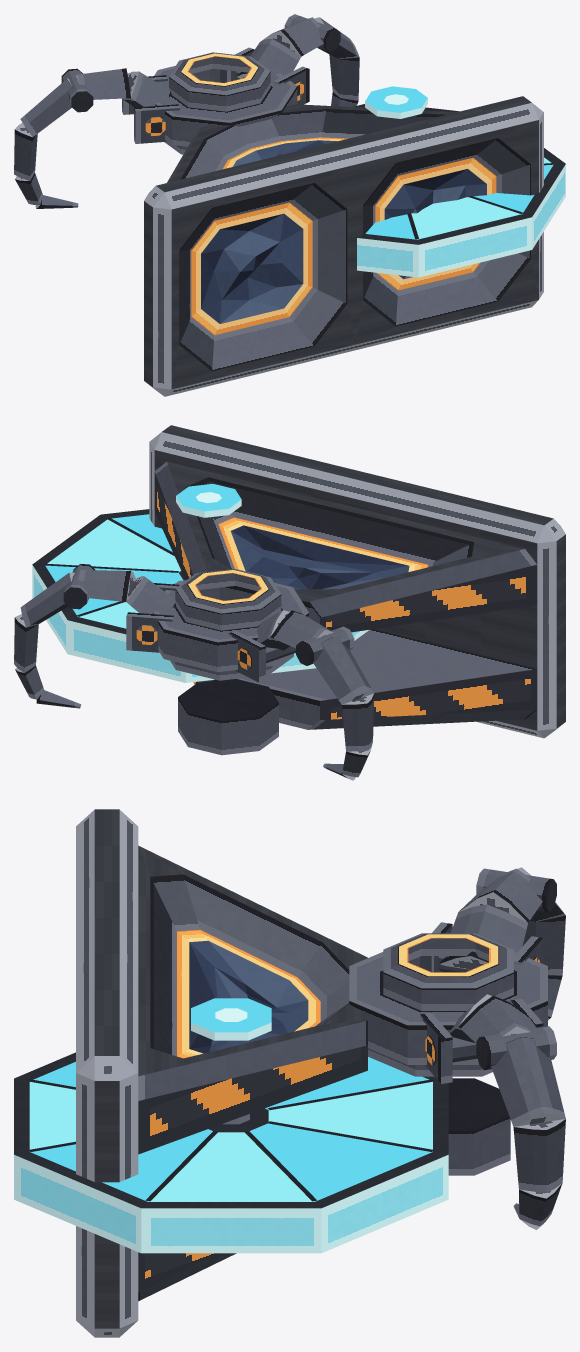
File: marlit_wireless.glb
3 renders of one model, top to bottom at view 1: azimuth 30°, elevation 25°; view 2: azimuth 150°, elevation 25°; view 3: azimuth 270°, elevation 25°, orthographic. The views are drawn at different scales.
Parts seen in each view (by area): view 1: marlit_wireless_body, marlit_wireless_disc, marlit_wireless_lens; view 2: marlit_wireless_body, marlit_wireless_disc, marlit_wireless_lens; view 3: marlit_wireless_body, marlit_wireless_disc, marlit_wireless_lens.
Part boxes in pixels (bbox=[...]): marlit_wireless_body: bbox=[14, 14, 543, 396]; marlit_wireless_disc: bbox=[353, 104, 565, 277]; marlit_wireless_lens: bbox=[365, 86, 427, 118]; marlit_wireless_body: bbox=[14, 425, 565, 780]; marlit_wireless_disc: bbox=[32, 509, 369, 682]; marlit_wireless_lens: bbox=[176, 484, 241, 517]; marlit_wireless_body: bbox=[76, 809, 565, 1337]; marlit_wireless_disc: bbox=[14, 1052, 448, 1253]; marlit_wireless_lens: bbox=[191, 998, 271, 1040].
Size of the model in its own units: 2.2 by 1 by 1.78.
Materials: 1 (1 with a texture image).
